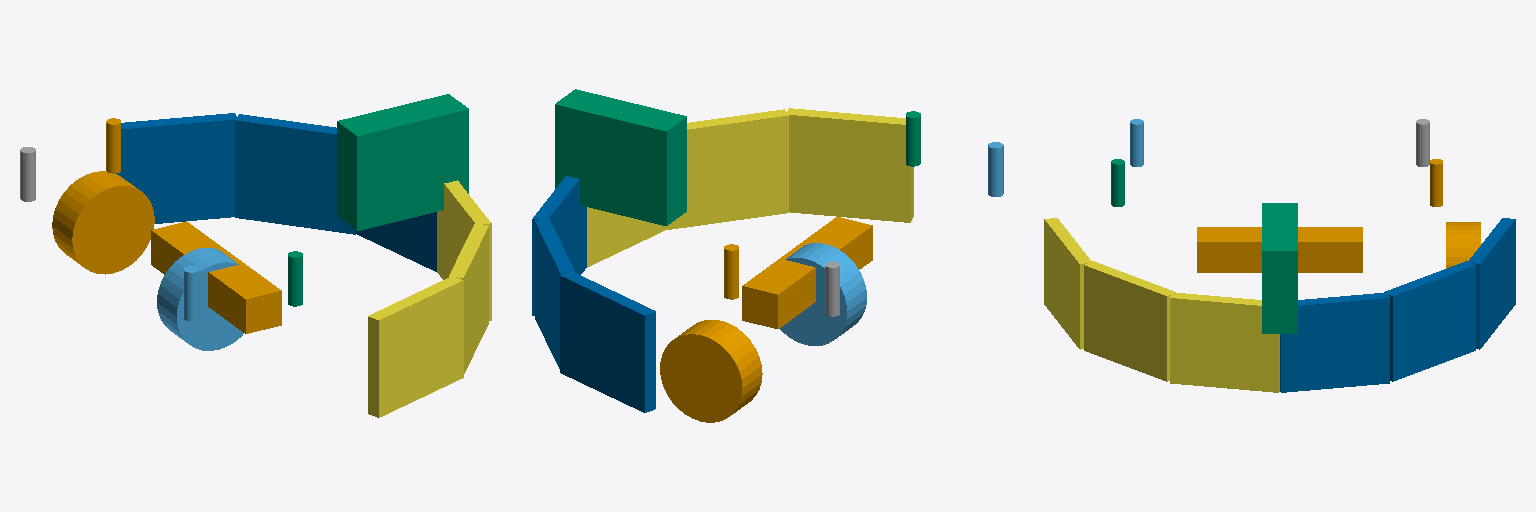
robot.urdf — [local-path]/ROS2-Project/src/my_create_simulation/resource/MyCr:
<?xml version="1.0"?>
<robot name="/home/jordenhuang/ROS2-Project/src/my_create_simulation/resource/MyCreate_realsense.urdf" xmlns:xacro="http://ros.org/wiki/xacro">
  <webots>
    <plugin type="my_create_simulation.my_create_driver_realsense.MyCreateDriverRealsense"/>
  </webots>

  <link name="base_link">
    <visual>
      <origin xyz="0 0 0" rpy="0 0 0"/>
      <geometry>
        <box size="0.027 0.123 0.025"/>
      </geometry>
    </visual>
    <collision>
      <origin xyz="0 0 0" rpy="0 0 0"/>
      <geometry>
        <box size="0.027 0.123 0.025"/>
      </geometry>
    </collision>
  </link>


  <!-- IMU link -->
  <link name="imu_link">
  </link>
  <joint name="MPU9250_to_imu_link_joint" type="fixed">
    <parent link="MPU-9250"/>
    <child link="imu_link"/>
    <origin xyz="0 0 0" rpy="0 0 0"/>
  </joint>

  <link name="MPU-9250">
  </link>
  <joint name="base_link_MPU-9250_joint" type="fixed">
    <parent link="base_link"/>
    <child link="MPU-9250"/>
    <origin xyz="0.15 0 0.05" rpy="0 0 0"/>
  </joint>

  <link name="MPU-9250 compass">
  </link>
  <joint name="MPU-9250_MPU-9250 compass_joint" type="fixed">
    <parent link="MPU-9250"/>
    <child link="MPU-9250 compass"/>
    <origin xyz="0 0 0" rpy="0 0 0"/>
  </joint>
  <link name="MPU-9250 gyro">
  </link>
  <joint name="MPU-9250_MPU-9250 gyro_joint" type="fixed">
    <parent link="MPU-9250"/>
    <child link="MPU-9250 gyro"/>
    <origin xyz="0 0 0" rpy="0 0 0"/>
  </joint>
  <link name="MPU-9250 accelerometer">
  </link>
  <joint name="MPU-9250_MPU-9250 accelerometer_joint" type="fixed">
    <parent link="MPU-9250"/>
    <child link="MPU-9250 accelerometer"/>
    <origin xyz="0 0 0" rpy="0 0 0"/>
  </joint>

  <link name="solid">
  </link>
  <joint name="base_link_solid_joint" type="fixed">
    <parent link="base_link"/>
    <child link="solid"/>
    <origin xyz="0.013 0 0" rpy="1.570798 -0.000002 1.570801"/>
  </joint>

  <link name="RealsenseD455_display">
  </link>
  <joint name="base_link_RealsenseD455_display_joint" type="fixed">
    <parent link="base_link"/>
    <child link="RealsenseD455_display"/>
    <origin xyz="0 0 0" rpy="0 0 0"/>
  </joint>
  <link name="RealsenseD455_receiver">
  </link>
  <joint name="base_link_RealsenseD455_receiver_joint" type="fixed">
    <parent link="base_link"/>
    <child link="RealsenseD455_receiver"/>
    <origin xyz="0 0 0" rpy="0 0 0"/>
  </joint>
  <link name="RealsenseD455_emitter">
  </link>
  <joint name="base_link_RealsenseD455_emitter_joint" type="fixed">
    <parent link="base_link"/>
    <child link="RealsenseD455_emitter"/>
    <origin xyz="0 0 0" rpy="0 0 0"/>
  </joint>

  <!-- <link name="RealsenseD455_rgb">
  </link>
  <joint name="base_link_RealsenseD455_rgb_joint" type="fixed">
    <parent link="base_link"/>
    <child link="RealsenseD455_rgb"/>
    <origin xyz="0.005 0 0" rpy="-1.570796 0 -1.570796"/>
  </joint>

  <link name="RealsenseD455_depth">
  </link>
  <joint name="base_link_RealsenseD455_depth_joint" type="fixed">
    <parent link="base_link"/>
    <child link="RealsenseD455_depth"/>
    <origin xyz="0.005 0 0" rpy="0 0 0"/>
  </joint> -->


  <!-- ======================= REALSENSE CAMERA ======================= -->
  <!-- This is the physical body of the Realsense D455 camera -->
  <link name="Realsense">
    <visual>
      <origin xyz="0 0 0" rpy="0 0 0"/>
      <geometry>
        <box size="0.084 0.027 0.068"/>
      </geometry>
    </visual>
    <collision>
      <origin xyz="0 0 0" rpy="0 0 0"/>
      <geometry>
        <box size="0.084 0.027 0.068"/>
      </geometry>
    </collision>
  </link>

  <!-- This joint mounts the camera body onto the robot's base link -->
  <joint name="base_to_realsense_joint" type="fixed">
    <parent link="base_link"/>
    <child link="Realsense"/>
    <!-- Position the camera 14cm forward and 10cm up from the base_link origin -->
    <origin xyz="0.14 0 0.05" rpy="0 0 0"/>
  </joint>

  <link name="camera_rgb_frame">
  </link>
  <joint name="realsense_to_camera_rgb_joint" type="fixed">
    <parent link="Realsense"/>
    <child link="camera_rgb_frame"/>
    <origin xyz="0.005 0 0" rpy="0 0 0"/>
  </joint>

  <!-- camera rgb optical frame -->
  <link name="camera_rgb_optical_frame">
  </link>
  <joint name="camera_rgb_to_camera_rgb_optical_joint" type="fixed">
    <parent link="camera_rgb_frame"/>
    <child link="camera_rgb_optical_frame"/>
    <origin xyz="0 0 0" rpy="-1.570796 0 -1.570796"/>
  </joint>

  <link name="camera_depth_frame">
  </link>
  <joint name="realsense_to_camera_depth_joint" type="fixed">
    <parent link="Realsense"/>
    <child link="camera_depth_frame"/>
    <origin xyz="0.005 0 0" rpy="0 0 0"/>
  </joint>

  <!-- camera rgb optical frame -->
  <link name="camera_depth_optical_frame">
  </link>
  <joint name="camera_depth_to_camera_depth_optical_joint" type="fixed">
    <parent link="camera_depth_frame"/>
    <child link="camera_depth_optical_frame"/>
    <origin xyz="0 0 0" rpy="-1.570796 0 -1.570796"/>
  </joint>
  <!-- End camera thingy -->


  <link name="stand_left_back_1">
    <visual>
      <geometry>
        <cylinder radius="0.005" length="0.035"/>
      </geometry>
    </visual>
    <collision>
      <geometry>
        <cylinder radius="0.005" length="0.035"/>
      </geometry>
    </collision>
  </link>
  <joint name="base_link_stand_left_back_1_joint" type="fixed">
    <parent link="base_link"/>
    <child link="stand_left_back_1"/>
    <origin xyz="-0.08 0.106 0.05" rpy="0 0 0"/>
  </joint>
  <link name="stand_left_front_1">
    <visual>
      <geometry>
        <cylinder radius="0.005" length="0.035"/>
      </geometry>
    </visual>
    <collision>
      <geometry>
        <cylinder radius="0.005" length="0.035"/>
      </geometry>
    </collision>
  </link>
  <joint name="base_link_stand_left_front_1_joint" type="fixed">
    <parent link="base_link"/>
    <child link="stand_left_front_1"/>
    <origin xyz="-0.01 0.116 0.05" rpy="0 0 0"/>
  </joint>
  <link name="stand_right_back_1">
    <visual>
      <geometry>
        <cylinder radius="0.005" length="0.035"/>
      </geometry>
    </visual>
    <collision>
      <geometry>
        <cylinder radius="0.005" length="0.035"/>
      </geometry>
    </collision>
  </link>
  <joint name="base_link_stand_right_back_1_joint" type="fixed">
    <parent link="base_link"/>
    <child link="stand_right_back_1"/>
    <origin xyz="-0.08 -0.106 0.05" rpy="0 0 0"/>
  </joint>
  <link name="stand_right_front_1">
    <visual>
      <geometry>
        <cylinder radius="0.005" length="0.035"/>
      </geometry>
    </visual>
    <collision>
      <geometry>
        <cylinder radius="0.005" length="0.035"/>
      </geometry>
    </collision>
  </link>
  <joint name="base_link_stand_right_front_1_joint" type="fixed">
    <parent link="base_link"/>
    <child link="stand_right_front_1"/>
    <origin xyz="-0.01 -0.12 0.05" rpy="0 0 0"/>
  </joint>
  <link name="plate_1">
  </link>
  <joint name="base_link_plate_1_joint" type="fixed">
    <parent link="base_link"/>
    <child link="plate_1"/>
    <origin xyz="0 0 0.07" rpy="0 0 0"/>
  </joint>
  <link name="cliff_left">
  </link>
  <joint name="base_link_cliff_left_joint" type="fixed">
    <parent link="base_link"/>
    <child link="cliff_left"/>
    <origin xyz="0.07 0.15 0" rpy="-1.876967 1.570787 1.264616"/>
  </joint>
  <link name="cliff_front_left">
  </link>
  <joint name="base_link_cliff_front_left_joint" type="fixed">
    <parent link="base_link"/>
    <child link="cliff_front_left"/>
    <origin xyz="0.15 0.04 0" rpy="-1.876967 1.570787 1.264616"/>
  </joint>
  <link name="cliff_front_right">
  </link>
  <joint name="base_link_cliff_front_right_joint" type="fixed">
    <parent link="base_link"/>
    <child link="cliff_front_right"/>
    <origin xyz="0.15 -0.04 0" rpy="-1.876967 1.570787 1.264616"/>
  </joint>
  <link name="cliff_right">
  </link>
  <joint name="base_link_cliff_right_joint" type="fixed">
    <parent link="base_link"/>
    <child link="cliff_right"/>
    <origin xyz="0.07 -0.15 0" rpy="-1.876967 1.570787 1.264616"/>
  </joint>
  <link name="led_step">
  </link>
  <joint name="base_link_led_step_joint" type="fixed">
    <parent link="base_link"/>
    <child link="led_step"/>
    <origin xyz="0.0189 -0.0581 0.0349" rpy="0 0 0"/>
  </joint>
  <link name="led_play">
  </link>
  <joint name="base_link_led_play_joint" type="fixed">
    <parent link="base_link"/>
    <child link="led_play"/>
    <origin xyz="0.0193 -0.0132 0.0349" rpy="0 0 0"/>
  </joint>
  <link name="led_on">
  </link>
  <joint name="base_link_led_on_joint" type="fixed">
    <parent link="base_link"/>
    <child link="led_on"/>
    <origin xyz="0.0202 0.0617 0.0349" rpy="0 0 0"/>
  </joint>
  <link name="bumper_right">
    <visual>
      <origin xyz="-0.078042 0 -0.148208" rpy="0 0.523599 0"/>
      <geometry>
        <box size="0.082811 0.07 0.01"/>
      </geometry>
    </visual>
    <collision>
      <origin xyz="-0.078042 0 -0.148208" rpy="0 0.523599 0"/>
      <geometry>
        <box size="0.082811 0.07 0.01"/>
      </geometry>
    </collision>
    <visual>
      <origin xyz="0 0 -0.1675" rpy="0 0 0"/>
      <geometry>
        <box size="0.082811 0.07 0.01"/>
      </geometry>
    </visual>
    <collision>
      <origin xyz="0 0 -0.1675" rpy="0 0 0"/>
      <geometry>
        <box size="0.082811 0.07 0.01"/>
      </geometry>
    </collision>
    <visual>
      <origin xyz="0.078042 0 -0.148208" rpy="0 -0.523599 0"/>
      <geometry>
        <box size="0.082811 0.07 0.01"/>
      </geometry>
    </visual>
    <collision>
      <origin xyz="0.078042 0 -0.148208" rpy="0 -0.523599 0"/>
      <geometry>
        <box size="0.082811 0.07 0.01"/>
      </geometry>
    </collision>
  </link>
  <joint name="base_link_bumper_right_joint" type="fixed">
    <parent link="base_link"/>
    <child link="bumper_right"/>
    <origin xyz="0 0 0" rpy="1.570792 0.000011 -2.297729"/>
  </joint>
  <link name="bumper_left">
    <visual>
      <origin xyz="-0.078042 0 -0.148208" rpy="0 0.523599 0"/>
      <geometry>
        <box size="0.082811 0.07 0.01"/>
      </geometry>
    </visual>
    <collision>
      <origin xyz="-0.078042 0 -0.148208" rpy="0 0.523599 0"/>
      <geometry>
        <box size="0.082811 0.07 0.01"/>
      </geometry>
    </collision>
    <visual>
      <origin xyz="0 0 -0.1675" rpy="0 0 0"/>
      <geometry>
        <box size="0.082811 0.07 0.01"/>
      </geometry>
    </visual>
    <collision>
      <origin xyz="0 0 -0.1675" rpy="0 0 0"/>
      <geometry>
        <box size="0.082811 0.07 0.01"/>
      </geometry>
    </collision>
    <visual>
      <origin xyz="0.078042 0 -0.148208" rpy="0 -0.523599 0"/>
      <geometry>
        <box size="0.082811 0.07 0.01"/>
      </geometry>
    </visual>
    <collision>
      <origin xyz="0.078042 0 -0.148208" rpy="0 -0.523599 0"/>
      <geometry>
        <box size="0.082811 0.07 0.01"/>
      </geometry>
    </collision>
  </link>
  <joint name="base_link_bumper_left_joint" type="fixed">
    <parent link="base_link"/>
    <child link="bumper_left"/>
    <origin xyz="0 0 0" rpy="1.570806 0.000006 -0.843867"/>
  </joint>
  <link name="receiver">
  </link>
  <joint name="base_link_receiver_joint" type="fixed">
    <parent link="base_link"/>
    <child link="receiver"/>
    <origin xyz="0.152 0 0.037" rpy="0 0 0"/>
  </joint>
  <link name="front wheel">
  </link>
  <joint name="base_link_front wheel_joint" type="fixed">
    <parent link="base_link"/>
    <child link="front wheel"/>
    <origin xyz="0.129 0 -0.035" rpy="0 0 0"/>
  </joint>
  <link name="rear wheel">
  </link>
  <joint name="base_link_rear wheel_joint" type="fixed">
    <parent link="base_link"/>
    <child link="rear wheel"/>
    <origin xyz="-0.1315 0 -0.0305" rpy="0 0 0"/>
  </joint>
  <joint name="left wheel motor" type="continuous">
    <parent link="base_link"/>
    <child link="left wheel"/>
    <axis xyz="0 1 0"/>
    <limit effort="10" velocity="16.129"/>
    <origin xyz="-0.0062 0 -0.014" rpy="0 0 0"/>
  </joint>
  <link name="left wheel">
    <visual>
      <origin xyz="0 0.1359 0" rpy="1.5708 0 0"/>
      <geometry>
        <cylinder radius="0.031" length="0.026"/>
      </geometry>
    </visual>
    <collision>
      <origin xyz="0 0.1359 0" rpy="1.5708 0 0"/>
      <geometry>
        <cylinder radius="0.031" length="0.026"/>
      </geometry>
    </collision>
  </link>
  <joint name="right wheel motor" type="continuous">
    <parent link="base_link"/>
    <child link="right wheel"/>
    <axis xyz="0 1 0"/>
    <limit effort="10" velocity="16.129"/>
    <origin xyz="-0.0062 0.1359 -0.014" rpy="0 0 0"/>
  </joint>
  <link name="right wheel">
    <visual>
      <origin xyz="0 -0.1359 0" rpy="1.5708 0 0"/>
      <geometry>
        <cylinder radius="0.031" length="0.026"/>
      </geometry>
    </visual>
    <collision>
      <origin xyz="0 -0.1359 0" rpy="1.5708 0 0"/>
      <geometry>
        <cylinder radius="0.031" length="0.026"/>
      </geometry>
    </collision>
  </link>
</robot>

--- Render facts (derived) ---
The picture shows the robot from 3 angles, left to right: view 1: azimuth 30°, elevation 25°; view 2: azimuth 150°, elevation 25°; view 3: azimuth 270°, elevation 25°; orthographic projection.
Robot: [local-path]/ROS2-Project/src/my_create_simulation/resource/MyCr — 34 links, 33 joints (2 continuous, 31 fixed); root link base_link; default pose: every joint at zero.
Links seen in each view (by area): view 1: bumper_left, bumper_right, Realsense, left wheel, base_link, right wheel, stand_left_back_1, stand_right_front_1, stand_left_front_1, stand_right_back_1; view 2: bumper_right, bumper_left, Realsense, left wheel, base_link, right wheel, stand_right_back_1, stand_left_front_1, stand_right_front_1, stand_left_back_1; view 3: bumper_right, bumper_left, base_link, Realsense, left wheel, stand_left_back_1, stand_right_back_1, stand_right_front_1, stand_left_front_1.
Link boxes in pixels (box(x1,y1,x2,y2)): bumper_left: box(116, 113, 436, 271); bumper_right: box(368, 180, 491, 417); Realsense: box(337, 94, 468, 230); left wheel: box(52, 171, 154, 274); base_link: box(151, 221, 281, 333); right wheel: box(157, 248, 243, 350); stand_left_back_1: box(20, 147, 35, 201); stand_right_front_1: box(288, 251, 302, 306); stand_left_front_1: box(106, 118, 120, 173); stand_right_back_1: box(184, 266, 198, 320); bumper_right: box(587, 108, 913, 267); bumper_left: box(532, 176, 655, 412); Realsense: box(555, 89, 686, 225); left wheel: box(660, 320, 762, 422); base_link: box(742, 217, 872, 328); right wheel: box(780, 243, 866, 345); stand_right_back_1: box(988, 142, 1003, 196); stand_left_front_1: box(724, 244, 738, 299); stand_right_front_1: box(906, 111, 920, 166); stand_left_back_1: box(825, 261, 839, 316); bumper_right: box(1044, 218, 1279, 392); bumper_left: box(1280, 218, 1515, 392); base_link: box(1197, 227, 1362, 272); Realsense: box(1262, 203, 1297, 333); left wheel: box(1446, 222, 1480, 268); stand_left_back_1: box(1416, 119, 1429, 166); stand_right_back_1: box(1130, 119, 1143, 166); stand_right_front_1: box(1111, 159, 1124, 206); stand_left_front_1: box(1430, 159, 1442, 206).
Size in the robot's own frame: 0.267 by 0.3492 by 0.129 metres.
Geometry: primitives only (box / cylinder / sphere), no mesh files.
